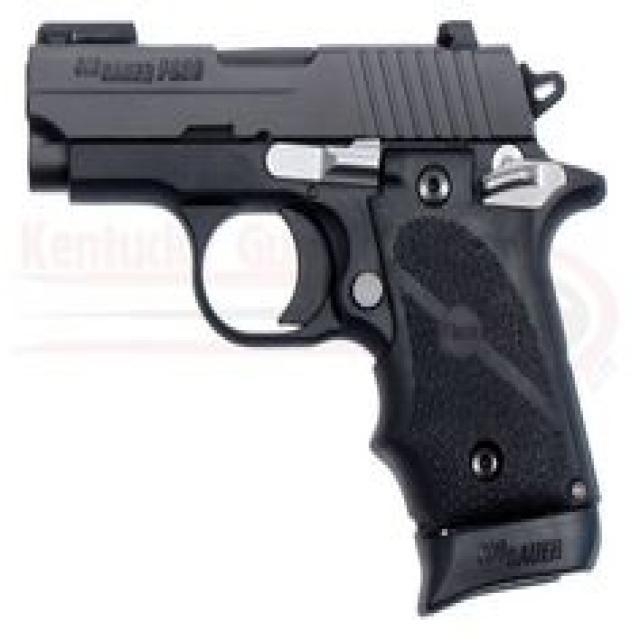semi automatic: (17, 2, 610, 619)
